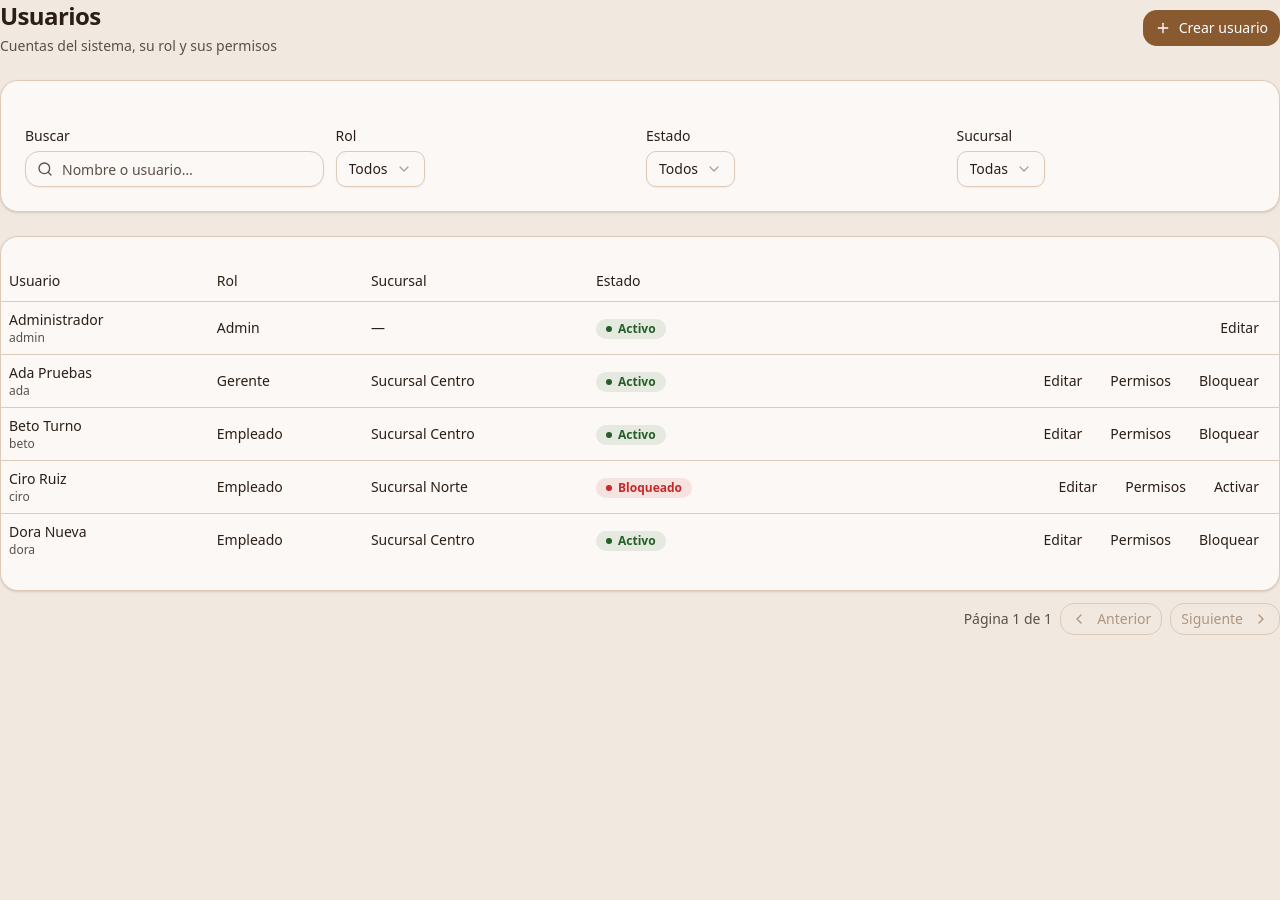
Scenario: Permisos de un usuario › muestra un permiso revocado como Inactivo y permite restablecerlo
Expected: the text "Beto Turno" is shown, [9,416,82,434]
What coordinates should you click on to do the following:
click the button "Permisos" in the row of "Beto Turno"
I would click on:
 (1141, 434)
Its box is [1098,418,1183,450].
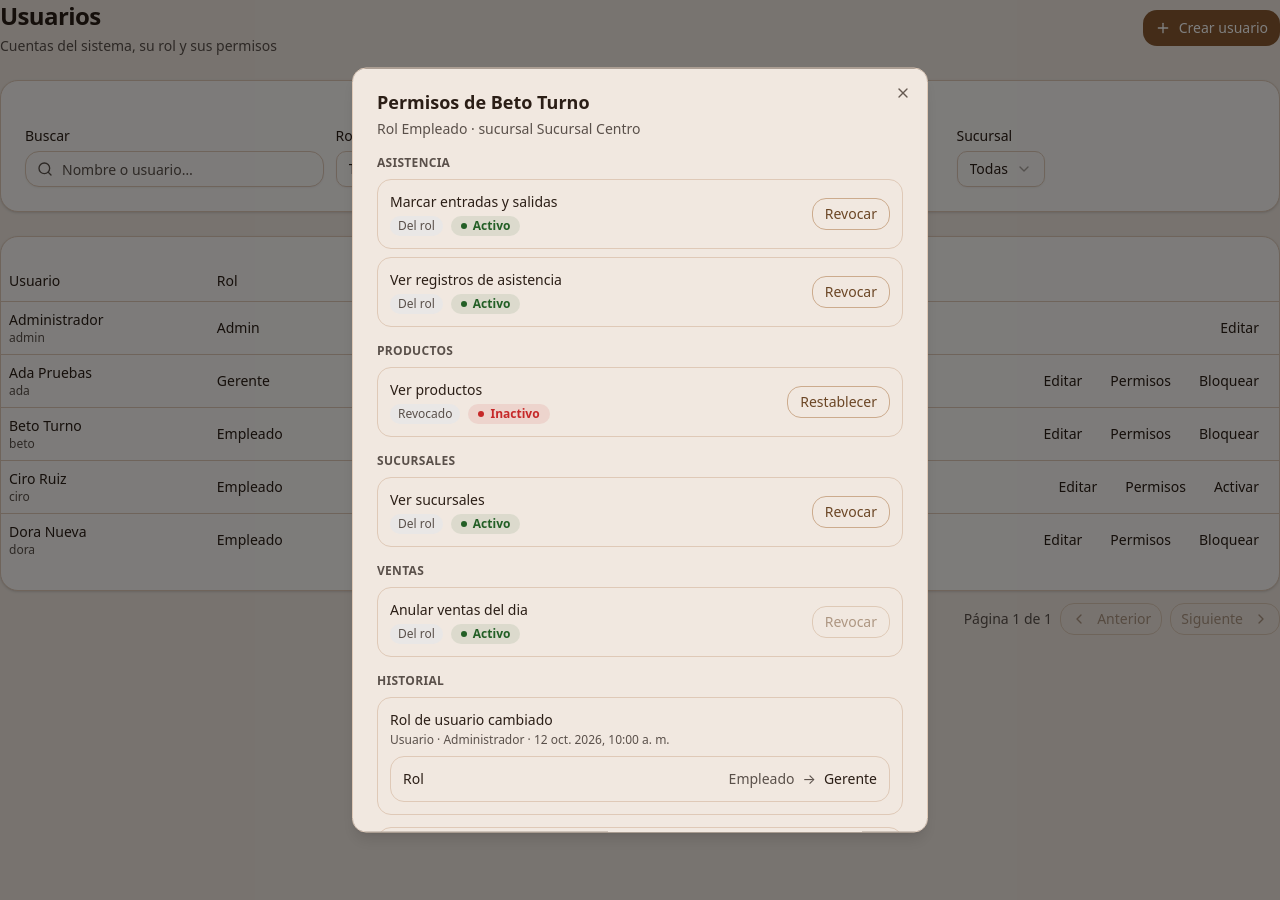
Expected: the text "Ver productos" is shown, [390,380,482,398]
Expected: the text "Revocado" is shown, [390,404,460,424]
Expected: the text "Inactivo" is shown, [468,404,550,424]
